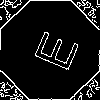E: (25, 25, 80, 74)
